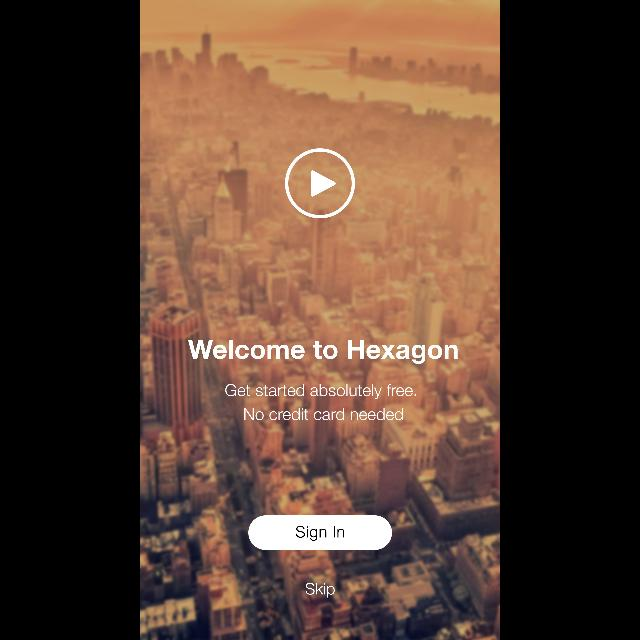backgroundimage: (140, 1, 500, 640)
icon: (285, 149, 355, 219)
text: (226, 384, 417, 421), (188, 340, 458, 364), (305, 582, 335, 598)
textbutton: (248, 516, 392, 550)
